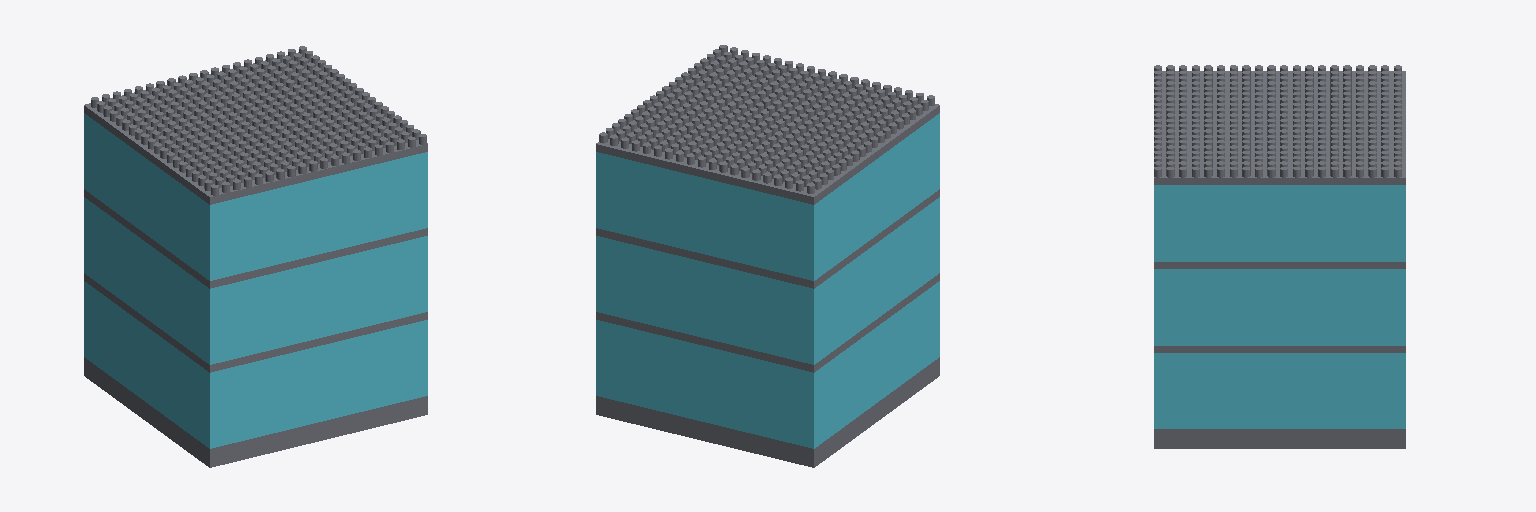
3 views of the same model, side by side, from view 1: azimuth 30°, elevation 25°; view 2: azimuth 150°, elevation 25°; view 3: azimuth 270°, elevation 25° (orthographic).
Parts seen in each view (by area): view 1: group43_pasted__pCube5, group44_pasted__pCube5, pCube042, Andamio, group44_pasted__pasted__pCube4_pasted__group38, pasted__pCube4_group38, pasted__pCube3_group42, group49_pasted__pasted__pasted__group26_pasted__pasted__group45_, pasted__pCube3_group44, group50_pasted__pasted__pasted__group26_pasted__pasted__group45_, pasted__pasted__group26_pasted__group45_group46_pasted__pasted__, pasted__pasted__group26_pasted__group45_group49_pasted__pasted__ (+6 smaller); view 2: group43_pasted__pasted__pCube5_pasted__group41, group44_pasted__pasted__pCube5_pasted__group41, pasted__pCube5_group41, Andamio, group44_pasted__pasted__pCube4_pasted__group38, pasted__pCube4_group38, pasted__pCube3_group42, group49_pasted__pasted__pasted__group26_pasted__pasted__group45_, pasted__pCube3_group44, group50_pasted__pasted__pasted__group26_pasted__pasted__group45_, pasted__pasted__group26_pasted__group45_group49_pasted__pasted__, pasted__pasted__group26_pasted__group45_group46_pasted__pasted__ (+7 smaller); view 3: group43_pasted__pCube4, group44_pasted__pCube4, pasted__pCube4_group40, pasted__pCube3_group44, pasted__pCube3_group42, group49_pasted__pasted__pasted__group26_pasted__pasted__group45_, group50_pasted__pasted__pasted__group26_pasted__pasted__group45_, pasted__pasted__group26_pasted__group45_group46_pasted__pasted__, pasted__pasted__group26_pasted__group45_group49_pasted__pasted__, pasted__pasted__group26_pasted__group45_group47_pasted__pasted__, pCube043, pasted__pCube3_group43 (+4 smaller).
Boxes of the visible parts, <box> form: group43_pasted__pCube5: <box>215,236,426,362</box>; group44_pasted__pCube5: <box>215,152,426,279</box>; pCube042: <box>215,320,426,447</box>; Andamio: <box>84,197,216,364</box>; group44_pasted__pasted__pCube4_pasted__group38: <box>84,113,216,280</box>; pasted__pCube4_group38: <box>84,281,216,448</box>; pasted__pCube3_group42: <box>84,357,427,467</box>; group49_pasted__pasted__pasted__group26_pasted__pasted__group45_: <box>212,94,360,176</box>; pasted__pCube3_group44: <box>84,52,427,204</box>; group50_pasted__pasted__pasted__group26_pasted__pasted__group45_: <box>288,81,415,157</box>; pasted__pasted__group26_pasted__group45_group46_pasted__pasted__: <box>135,113,246,167</box>; pasted__pasted__group26_pasted__group45_group49_pasted__pasted__: <box>167,62,278,116</box>; group43_pasted__pasted__pCube5_pasted__group41: <box>597,237,806,362</box>; group44_pasted__pasted__pCube5_pasted__group41: <box>597,152,808,278</box>; pasted__pCube5_group41: <box>603,321,808,446</box>; Andamio: <box>807,197,939,364</box>; group44_pasted__pasted__pCube4_pasted__group38: <box>807,113,939,280</box>; pasted__pCube4_group38: <box>807,281,939,448</box>; pasted__pCube3_group42: <box>596,357,939,467</box>; group49_pasted__pasted__pasted__group26_pasted__pasted__group45_: <box>709,61,858,142</box>; pasted__pCube3_group44: <box>596,56,939,204</box>; group50_pasted__pasted__pasted__group26_pasted__pasted__group45_: <box>654,47,781,124</box>; pasted__pasted__group26_pasted__group45_group49_pasted__pasted__: <box>665,121,776,175</box>; pasted__pasted__group26_pasted__group45_group46_pasted__pasted__: <box>786,107,896,161</box>; group43_pasted__pCube4: <box>1154,269,1405,345</box>; group44_pasted__pCube4: <box>1154,185,1405,261</box>; pasted__pCube4_group40: <box>1154,353,1405,428</box>; pasted__pCube3_group44: <box>1154,71,1405,184</box>; pasted__pCube3_group42: <box>1154,429,1405,448</box>; group49_pasted__pasted__pasted__group26_pasted__pasted__group45_: <box>1154,103,1313,141</box>; group50_pasted__pasted__pasted__group26_pasted__pasted__group45_: <box>1154,140,1313,167</box>; pasted__pasted__group26_pasted__group45_group46_pasted__pasted__: <box>1230,65,1313,103</box>; pasted__pasted__group26_pasted__group45_group49_pasted__pasted__: <box>1318,103,1401,141</box>; pasted__pasted__group26_pasted__group45_group47_pasted__pasted__: <box>1154,65,1224,103</box>; pCube043: <box>1154,346,1405,352</box>; pasted__pCube3_group43: <box>1154,262,1405,268</box>.
Size of the model in its own units: 68.07 by 82.81 by 68.07.
2 materials, 2 textured.